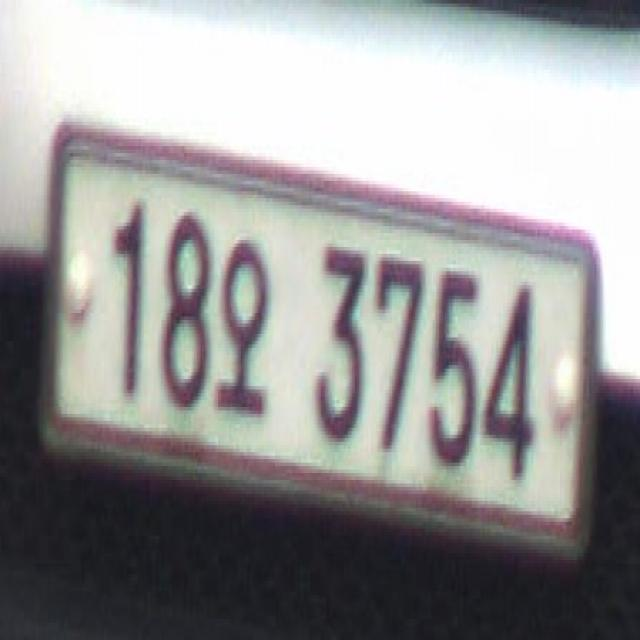1: (107, 191, 150, 407)
3: (312, 237, 366, 452)
4: (480, 261, 539, 480)
5: (429, 254, 476, 473)
7: (372, 240, 423, 463)
8: (158, 206, 210, 410)
license_plate: (32, 119, 598, 570)
o: (214, 226, 268, 431)
